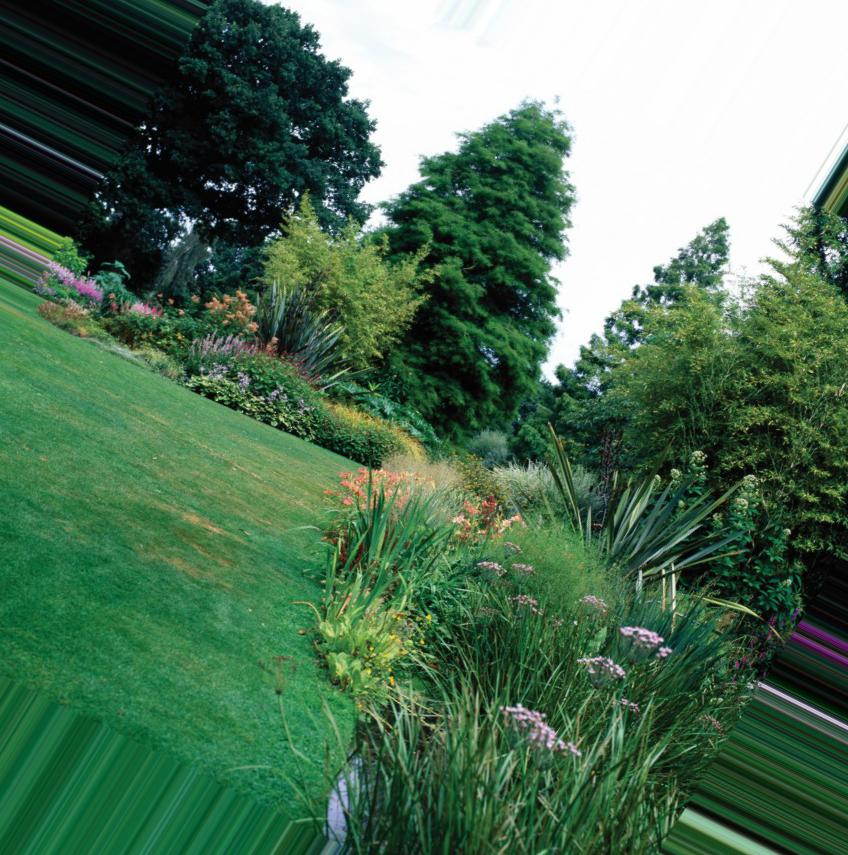patch: (404, 439, 425, 463)
